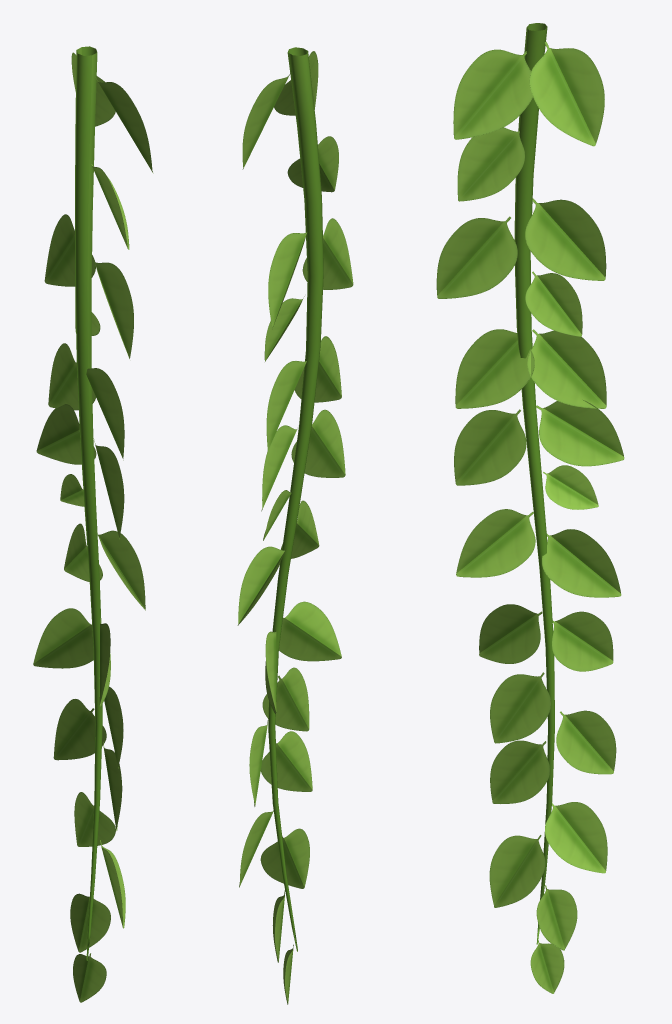
The model's file is SM_Vine_KN.fbx.
The picture shows the model from 3 angles, left to right: view 1: azimuth 30°, elevation 25°; view 2: azimuth 150°, elevation 25°; view 3: azimuth 270°, elevation 25°; orthographic projection.
Visible parts, largest first — view 1: Plane; view 2: Plane; view 3: Plane.
Boxes of the visible parts, bbox=[...] form: Plane: bbox=[33, 46, 153, 1002]; Plane: bbox=[237, 47, 353, 1004]; Plane: bbox=[436, 23, 624, 993].
Size of the model in its own units: 34.98 by 450 by 110.
